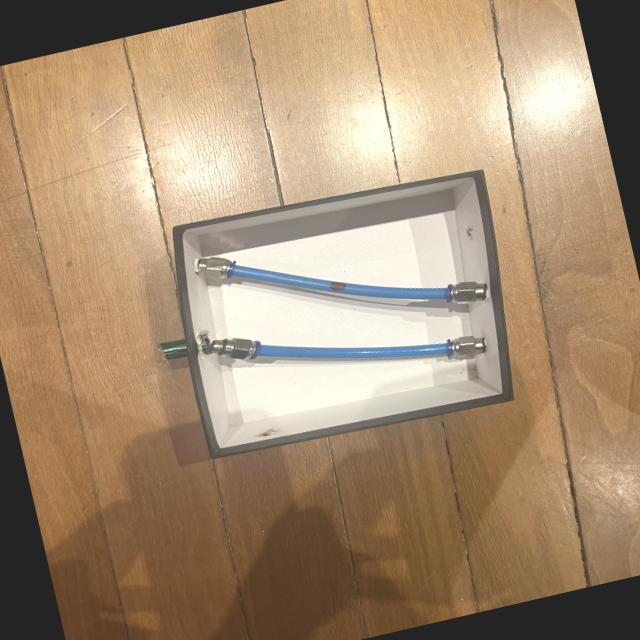hose_damage: (326, 278, 347, 293)
